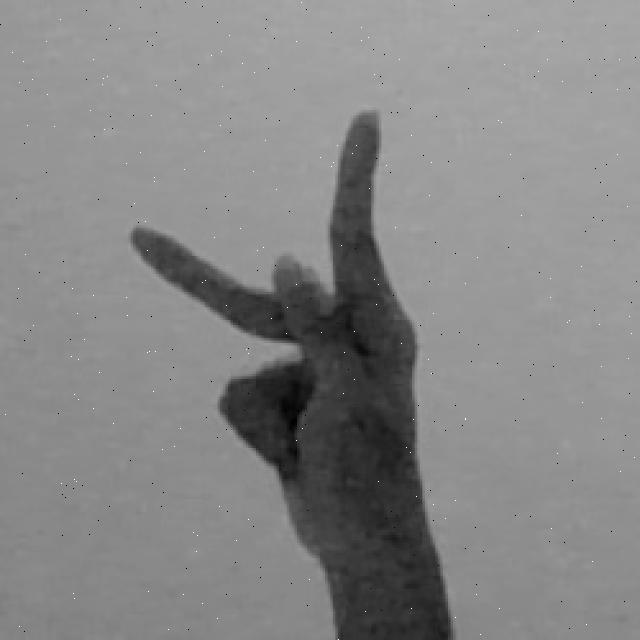K: (126, 102, 456, 640)
